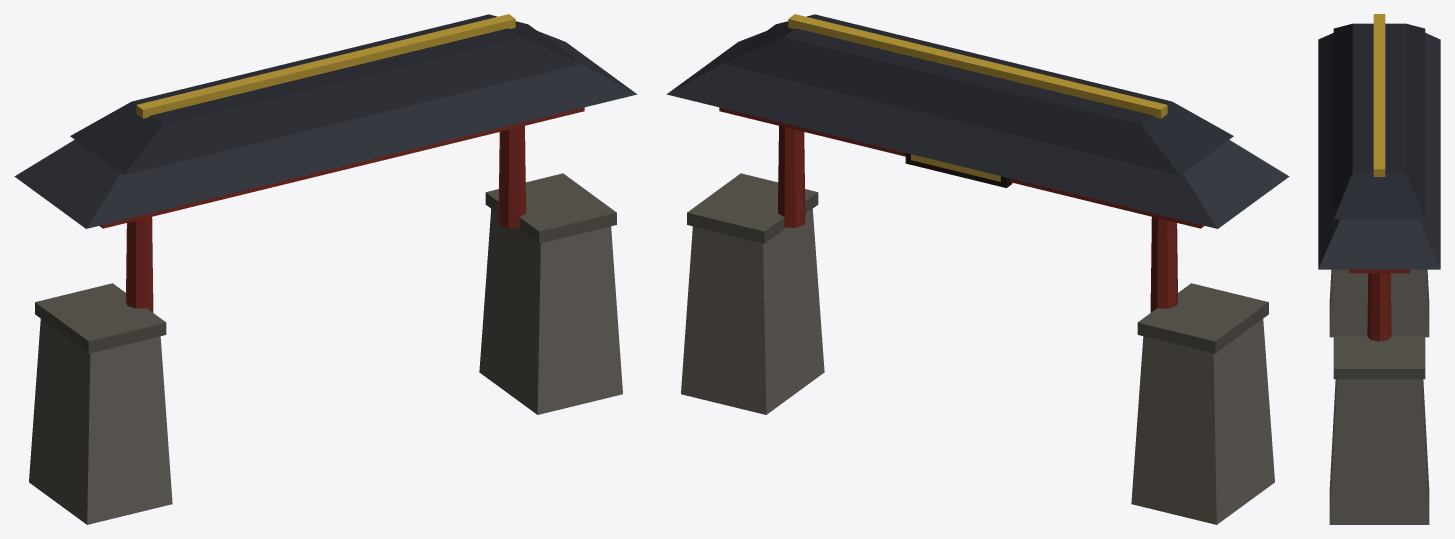
The model's file is prop_castle_gate.glb.
3 renders of one model, left to right at view 1: azimuth 30°, elevation 25°; view 2: azimuth 150°, elevation 25°; view 3: azimuth 270°, elevation 25°, orthographic. The views are drawn at different scales.
Visible parts, largest first — view 1: prop_castle_gate; view 2: prop_castle_gate; view 3: prop_castle_gate.
Part boxes in pixels (x1,y1,x2,y2): prop_castle_gate: [14, 14, 637, 524]; prop_castle_gate: [666, 14, 1289, 524]; prop_castle_gate: [1318, 14, 1440, 524].
Bounding box in the file's own units: 14.2 × 9.26 × 3.2.
